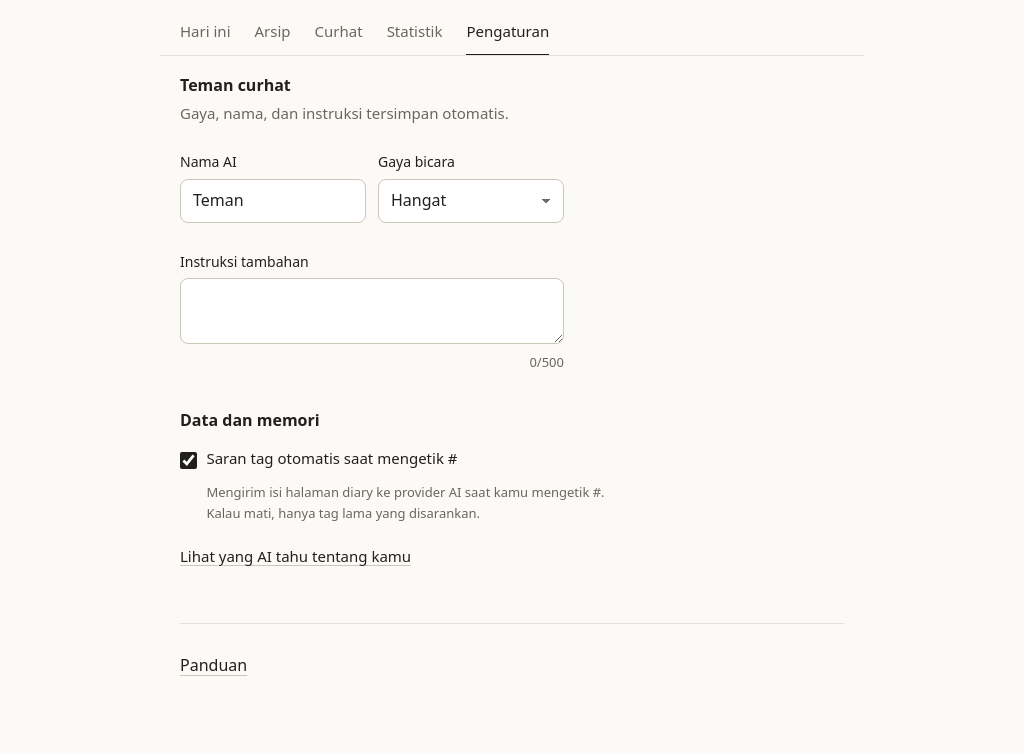
the quick guide stays reachable from Settings after the welcome entry is gone
(page scrolled)
Step 1. Click the link "Panduan" → (214, 665), box x1=180 y1=654 x2=247 y2=676
(page scrolled)
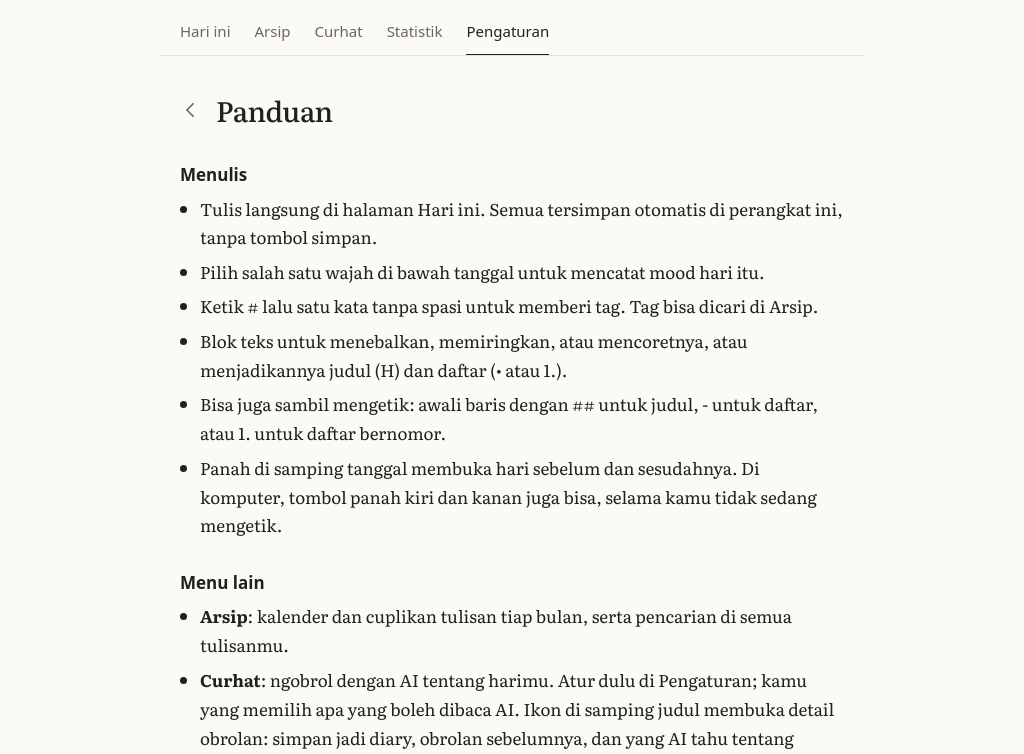
Check: the heading "Panduan" is shown, box x1=216 y1=94 x2=333 y2=127
Check: the heading "Menulis" is shown, box x1=180 y1=163 x2=247 y2=186
Check: the text "Arsip" is shown, box x1=200 y1=603 x2=248 y2=628
